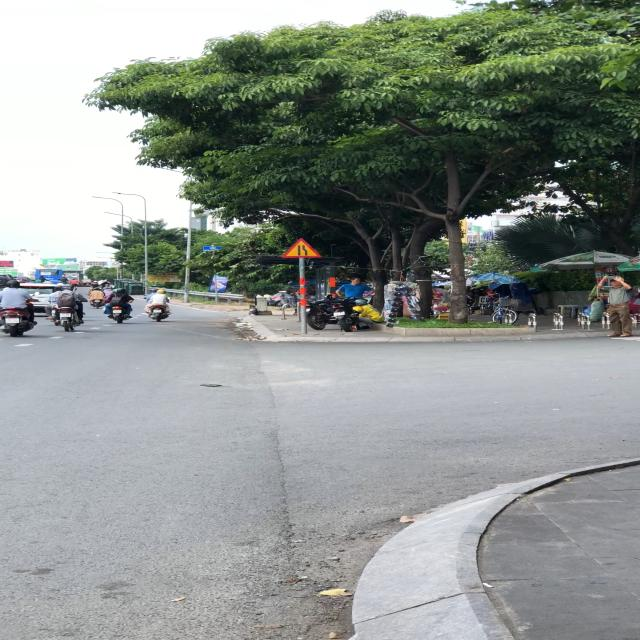Bien bao duong bi thu hep: (278, 238, 325, 258)
